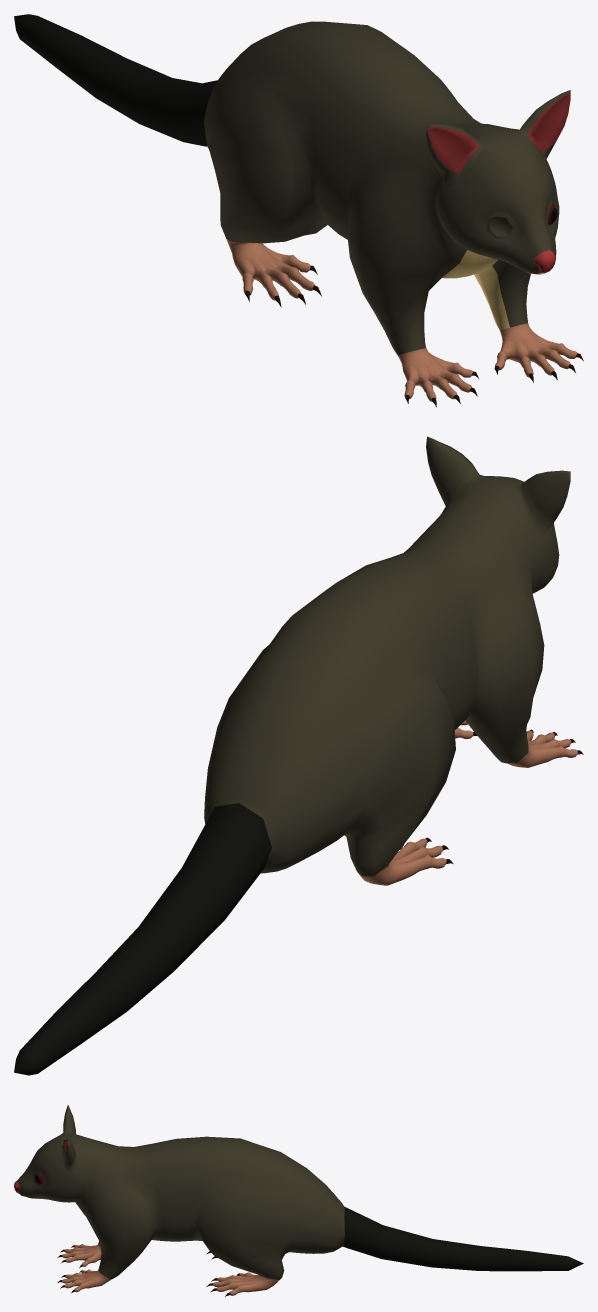
File: possum.obj
3 views of the same model, one above another, from view 1: azimuth 30°, elevation 25°; view 2: azimuth 150°, elevation 25°; view 3: azimuth 270°, elevation 25° (orthographic). The views are drawn at different scales.
Parts seen in each view (by area): view 1: possum; view 2: possum; view 3: possum.
Boxes of the visible parts, x1,y1,x2,y2 form: possum: [14, 14, 583, 407]; possum: [14, 436, 583, 1075]; possum: [14, 1105, 583, 1296].
Size of the model in its own units: 0.2126 by 0.2769 by 0.9654.
